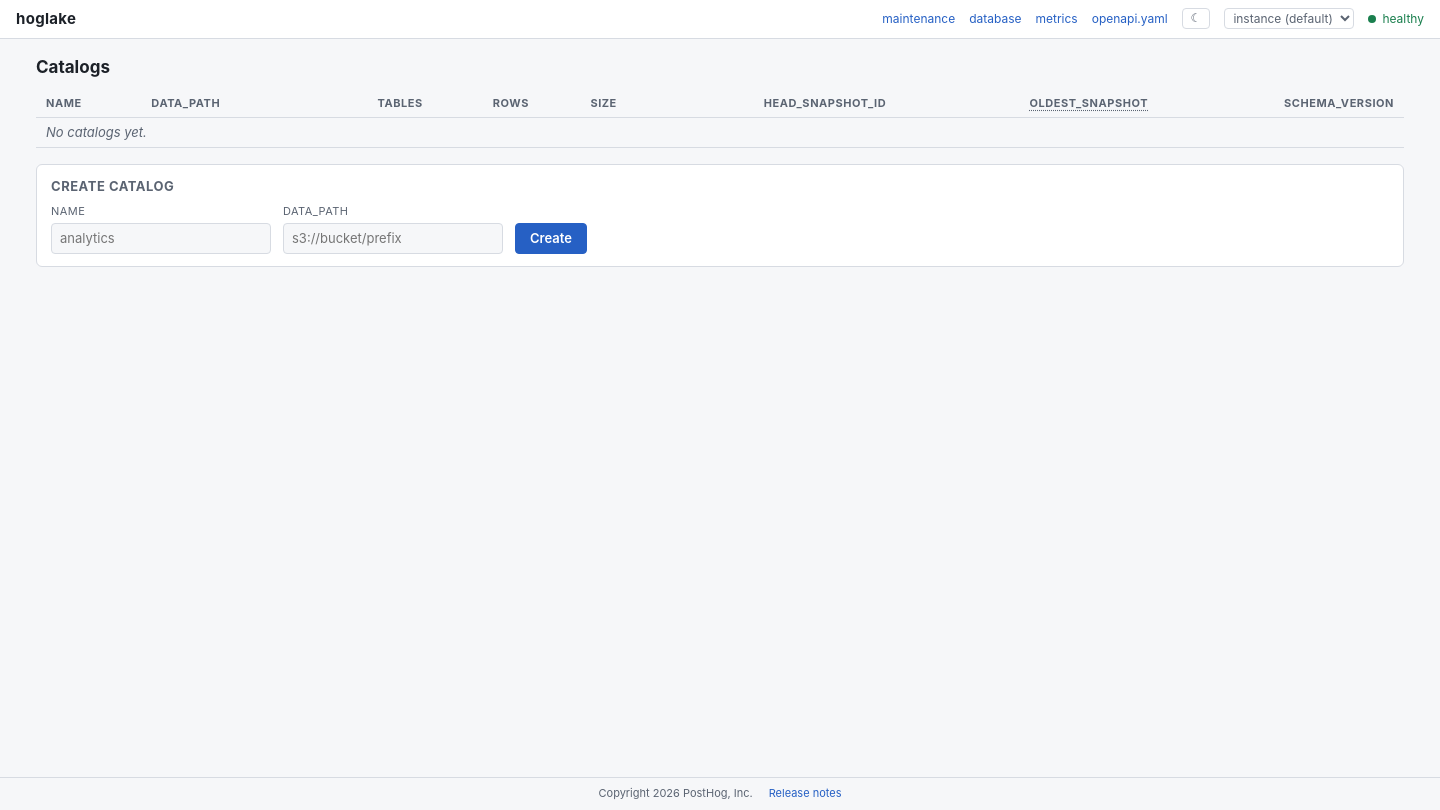
create-form submission › does not double-POST when Enter is pressed during a pending create
Type "ui-qe-x" into the field labelled "name". click: (161, 238)
box: top-left (51, 223), bottom-right (271, 254)
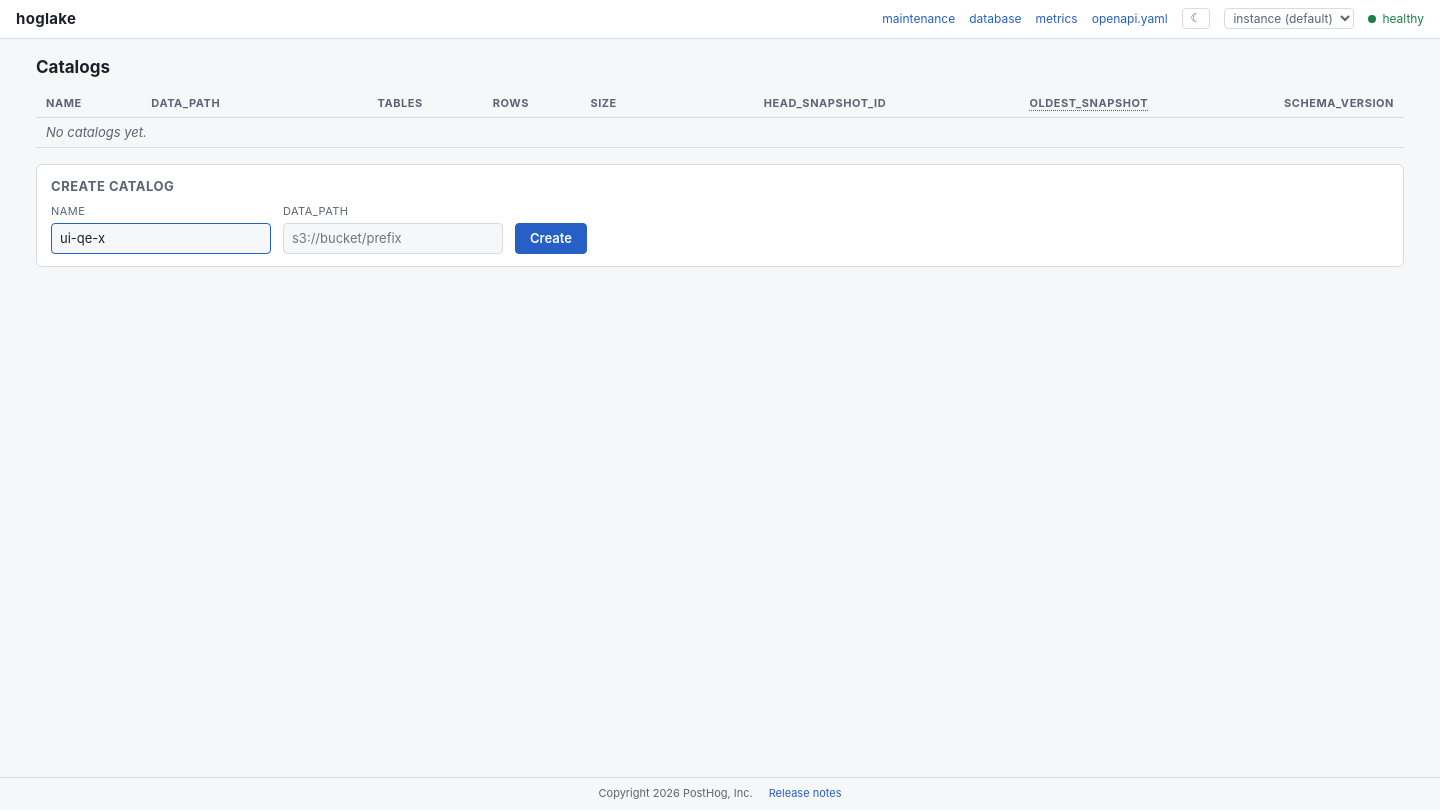
Type "s3://x" into the field labelled "data_path". click: (393, 238)
box: top-left (283, 223), bottom-right (503, 254)
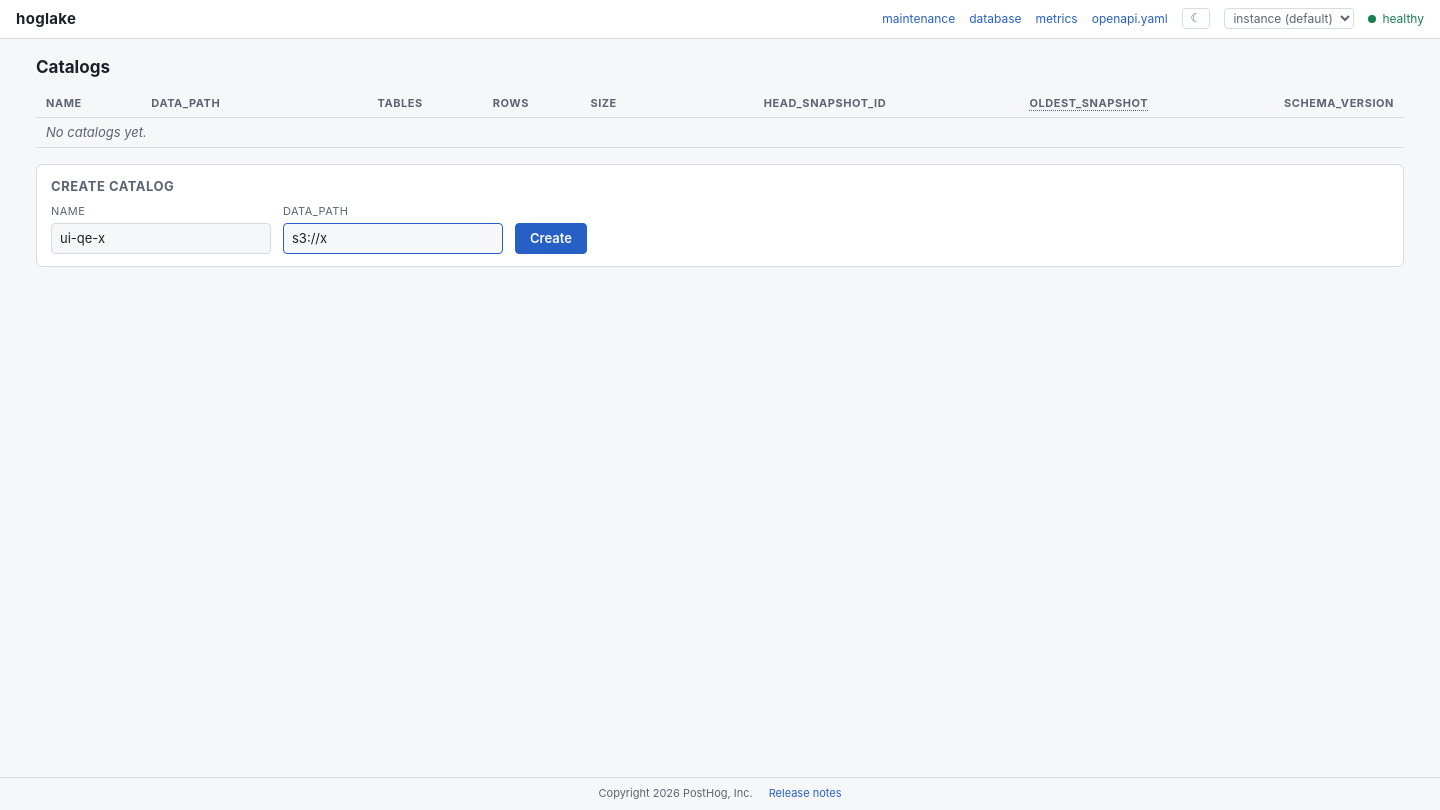
Press Enter
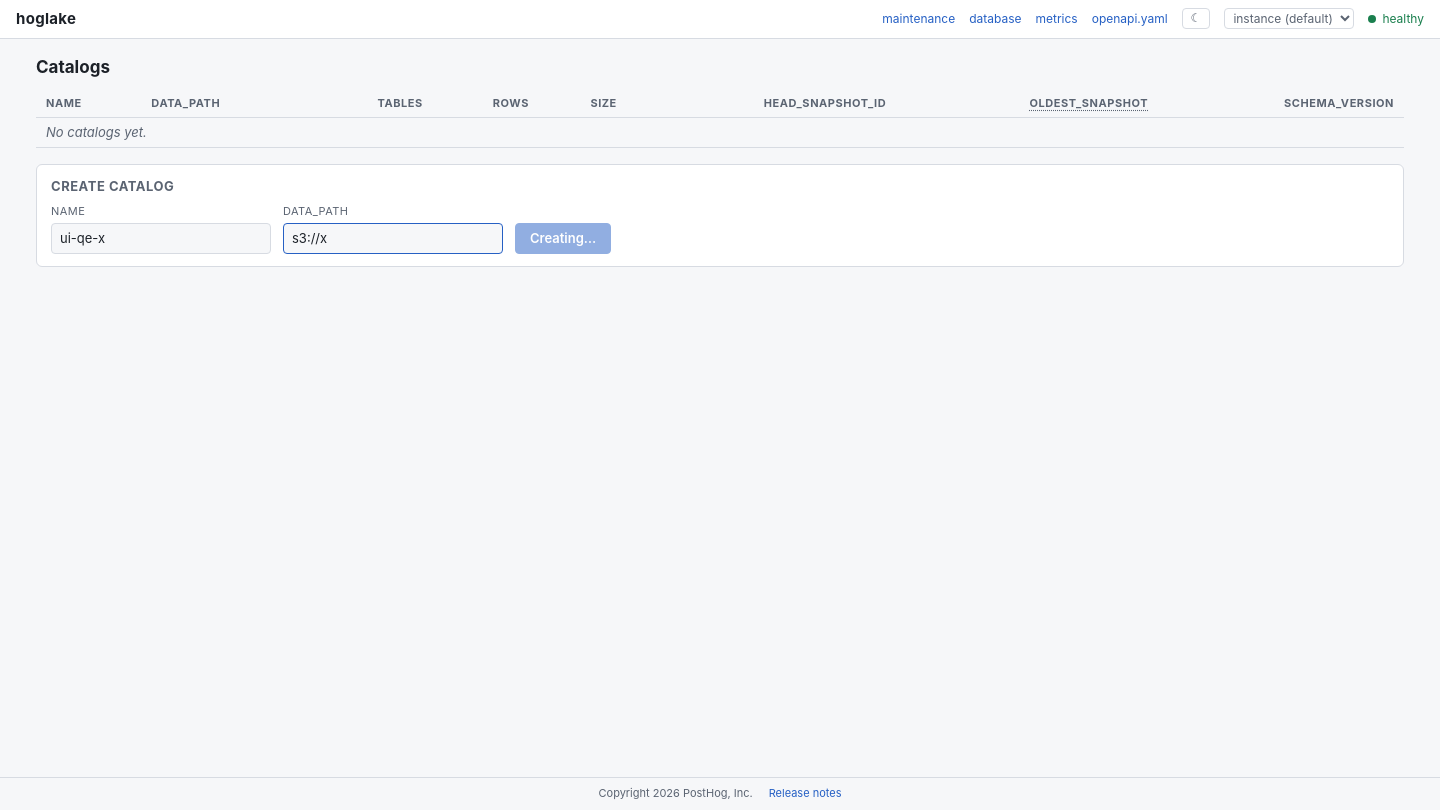
expect the button "Creating…" is shown: met, box top-left (515, 223), bottom-right (611, 254)
Click the field labelled "name". click: (161, 238)
box: top-left (51, 223), bottom-right (271, 254)
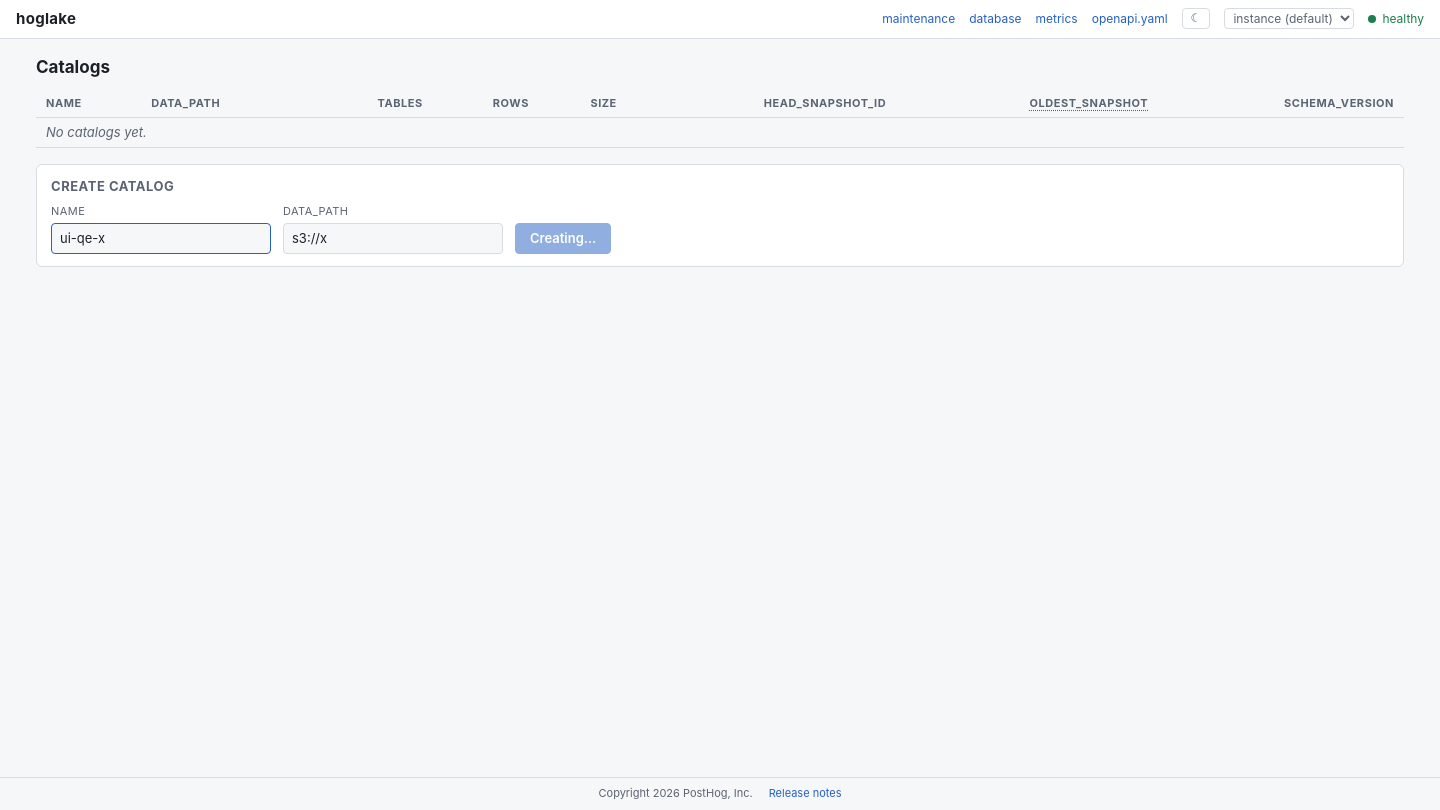
Press Enter
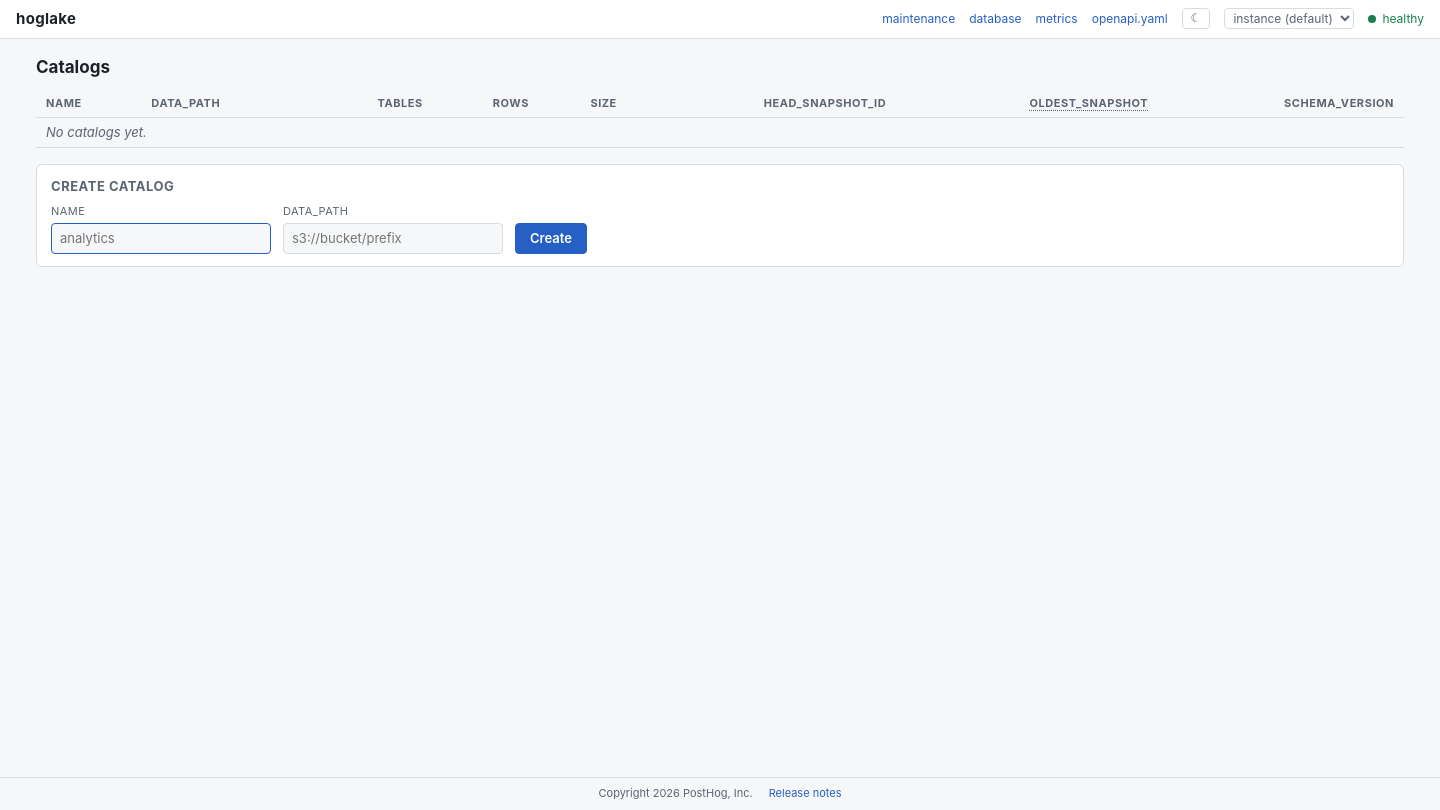
expect the button "Create" is shown: met, box top-left (515, 223), bottom-right (587, 254)
